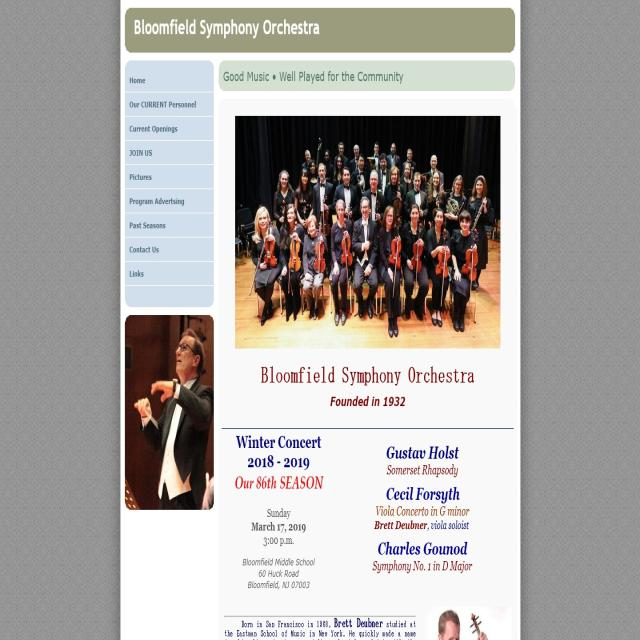button: (126, 64, 212, 91), (127, 165, 213, 189), (126, 212, 212, 236), (125, 263, 213, 284), (126, 141, 213, 162), (126, 238, 214, 258), (125, 94, 212, 114), (126, 118, 213, 138), (125, 193, 213, 211)
heading: (258, 360, 475, 415), (132, 16, 321, 40)
image: (236, 114, 500, 350), (125, 312, 214, 510), (432, 605, 494, 640)
text: (231, 430, 330, 496), (371, 485, 476, 537), (221, 615, 417, 640), (224, 63, 405, 88), (372, 539, 475, 579), (240, 556, 318, 596), (385, 442, 465, 480), (246, 502, 314, 546)
